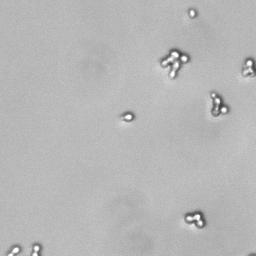budding: (185, 210, 205, 230), (5, 245, 21, 256), (30, 244, 41, 256)
cluster: (158, 47, 192, 83), (207, 90, 229, 119), (239, 56, 256, 79)
individual: (123, 112, 134, 122), (188, 9, 197, 19)
